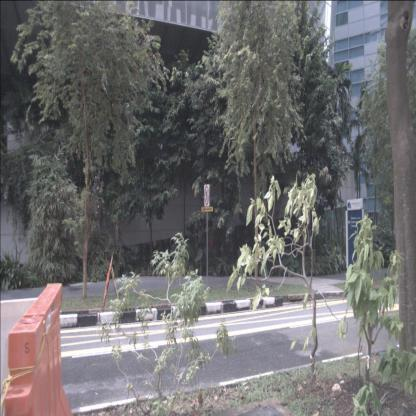movable_object-barrier: (5, 283, 72, 416)
